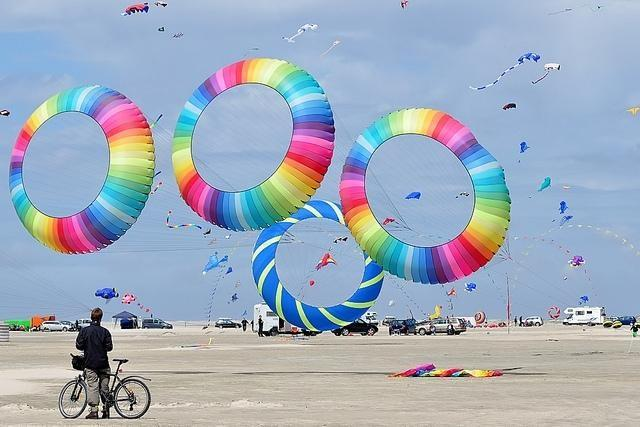bicycle: (59, 358, 152, 419)
car: (332, 318, 378, 336), (415, 320, 466, 336), (40, 321, 73, 332), (214, 318, 242, 330), (143, 318, 173, 329), (389, 320, 409, 336), (612, 314, 638, 324), (522, 316, 544, 327), (62, 321, 82, 331), (622, 322, 630, 325)
truck: (564, 307, 606, 326), (359, 312, 378, 326)
